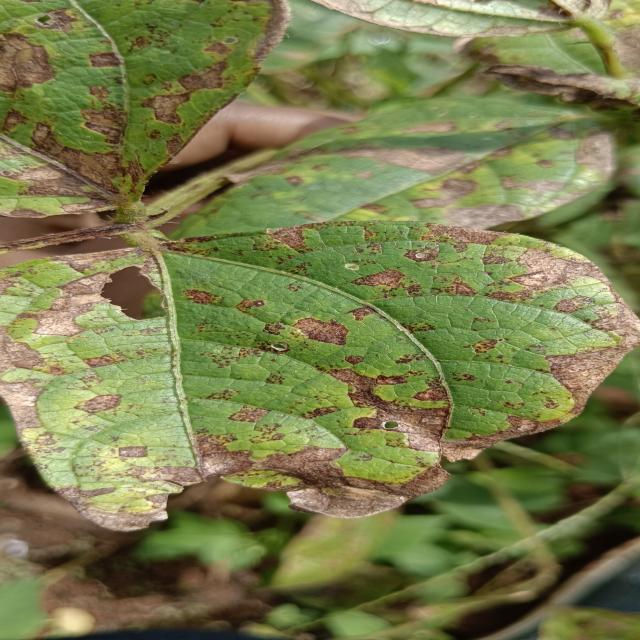Black gram_leaf spot: (0, 218, 640, 530), (0, 0, 282, 222)
